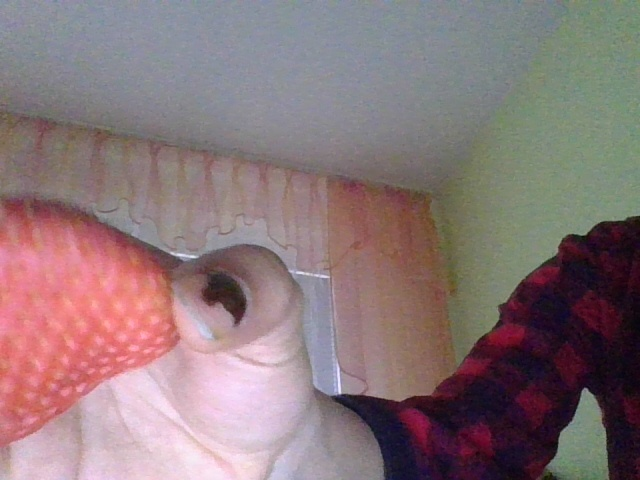ripe: (5, 195, 173, 441)
